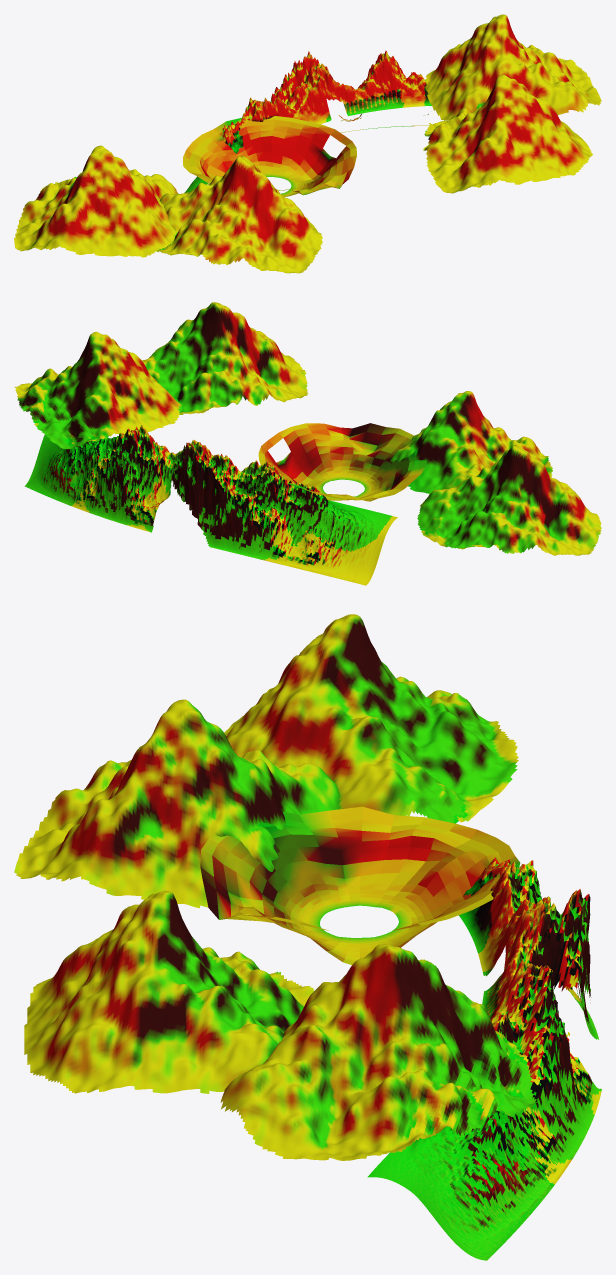
File: mountains_and_terrain.glb
The picture shows the model from 3 angles, top to bottom: view 1: azimuth 30°, elevation 25°; view 2: azimuth 150°, elevation 25°; view 3: azimuth 270°, elevation 25°; orthographic projection. The views are drawn at different scales.
Visible parts, largest first — view 1: Terrain_Mountains_1, Terrain_Mountains_2, Terrain_Generator_Valley, Terrain_Mountain_3; view 2: Terrain_Mountain_3, Terrain_Mountains_2, Terrain_Mountains_1, Terrain_Generator_Valley; view 3: Terrain_Mountains_2, Terrain_Mountains_1, Terrain_Mountain_3, Terrain_Generator_Valley.
Part boxes in pixels (bbox=[...]): Terrain_Mountains_1: bbox=[14, 145, 322, 273]; Terrain_Mountains_2: bbox=[423, 14, 601, 193]; Terrain_Generator_Valley: bbox=[183, 116, 356, 196]; Terrain_Mountain_3: bbox=[184, 50, 431, 193]; Terrain_Mountain_3: bbox=[24, 425, 397, 585]; Terrain_Mountains_2: bbox=[14, 302, 307, 449]; Terrain_Mountains_1: bbox=[390, 391, 601, 555]; Terrain_Generator_Valley: bbox=[258, 423, 426, 501]; Terrain_Mountains_2: bbox=[24, 890, 537, 1160]; Terrain_Mountains_1: bbox=[14, 614, 518, 908]; Terrain_Mountain_3: bbox=[367, 857, 601, 1260]; Terrain_Generator_Valley: bbox=[200, 806, 520, 964].
Size of what is drawn, in the model's own units: 484 by 124 by 233.
